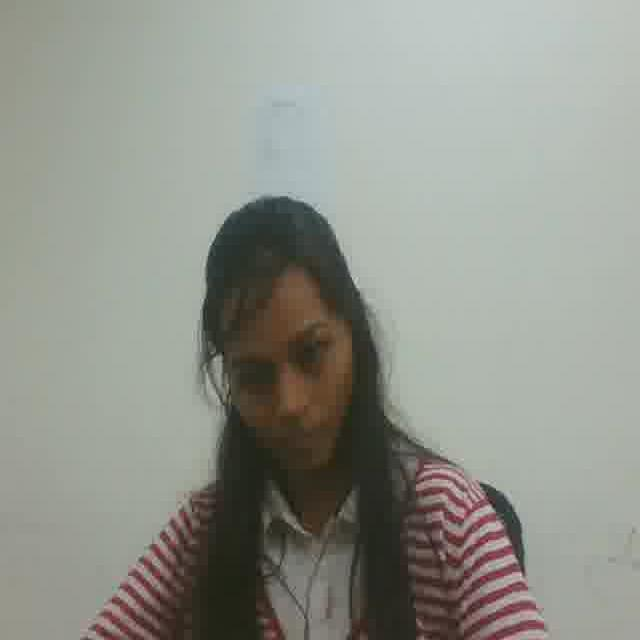Confusion: (223, 286, 348, 490)
